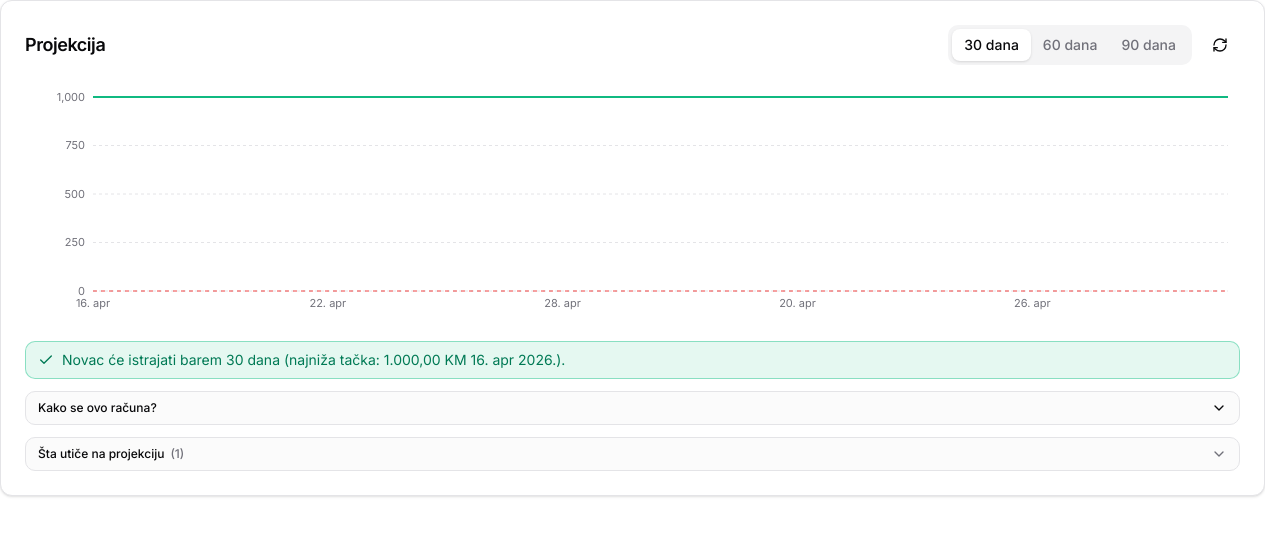
Test: ForecastWidget › lists installment plans with remaining count and day-of-month
Step 1. Click the heading "Šta utiče na projekciju(1)" → (101, 454), box [38,446,1227,462]
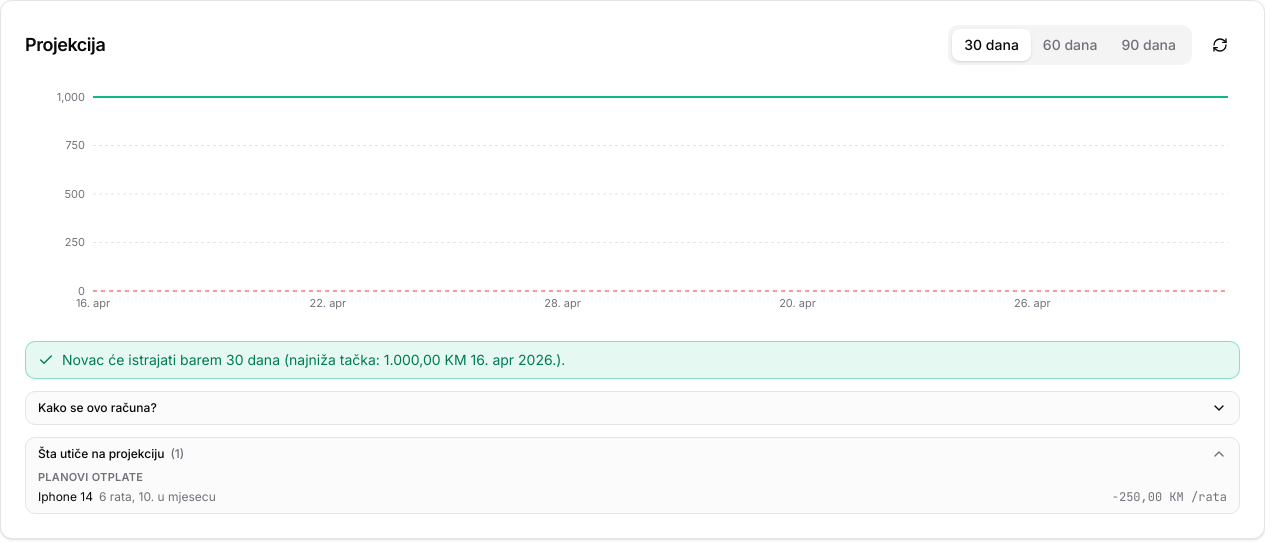
Now the text "Iphone 14" is shown, box [38,489,93,504]
Now the text "6 rata, 10. u mjesecu" is shown, box [99,489,216,504]
